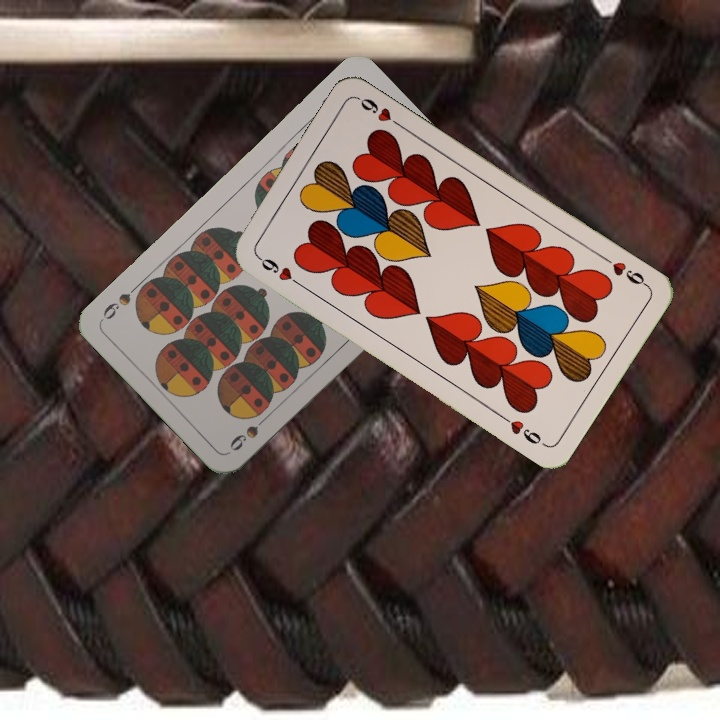H9: (598, 252, 651, 290), (253, 252, 305, 290)
S9: (225, 409, 273, 454)
